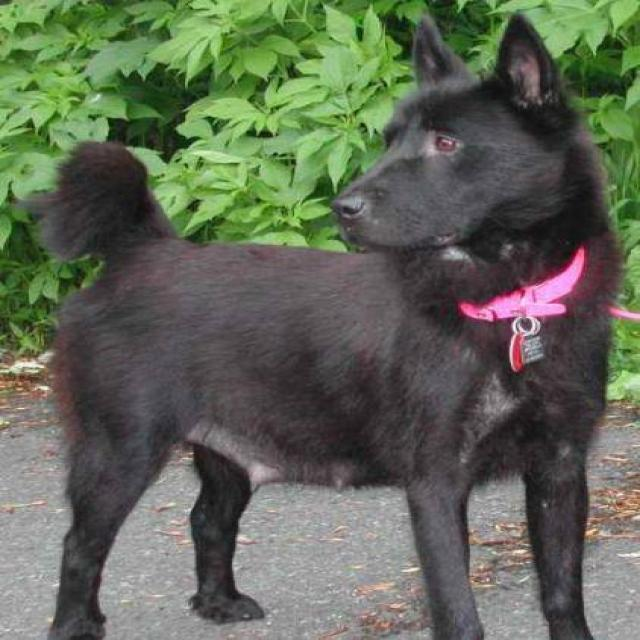dogs: (41, 14, 640, 640)
